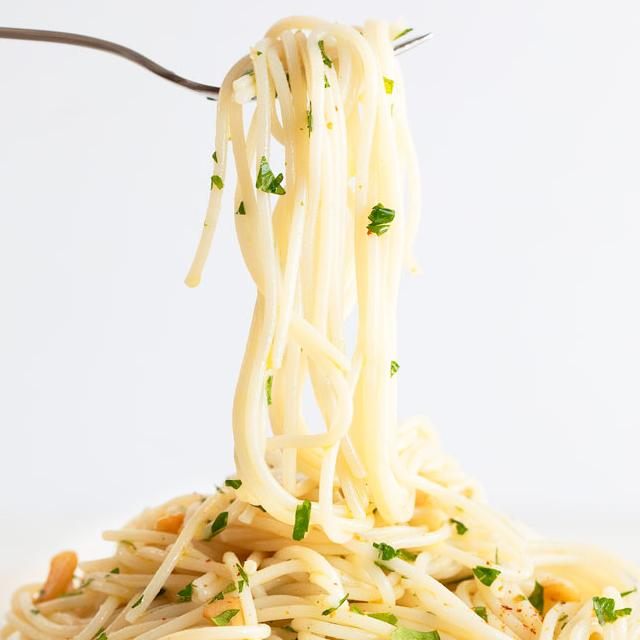noodles: (0, 459, 640, 640)
